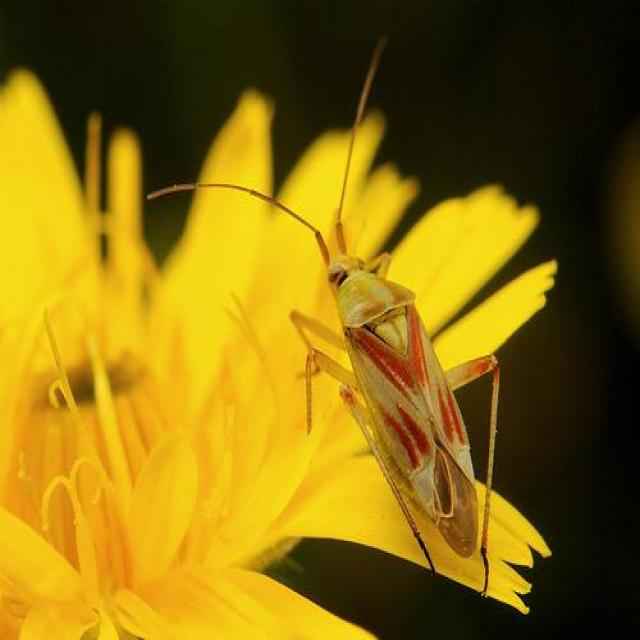Miridae-Adult-: (136, 24, 518, 603)
